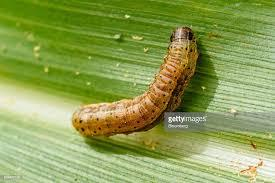fallarmy_worm: (71, 21, 212, 140)
